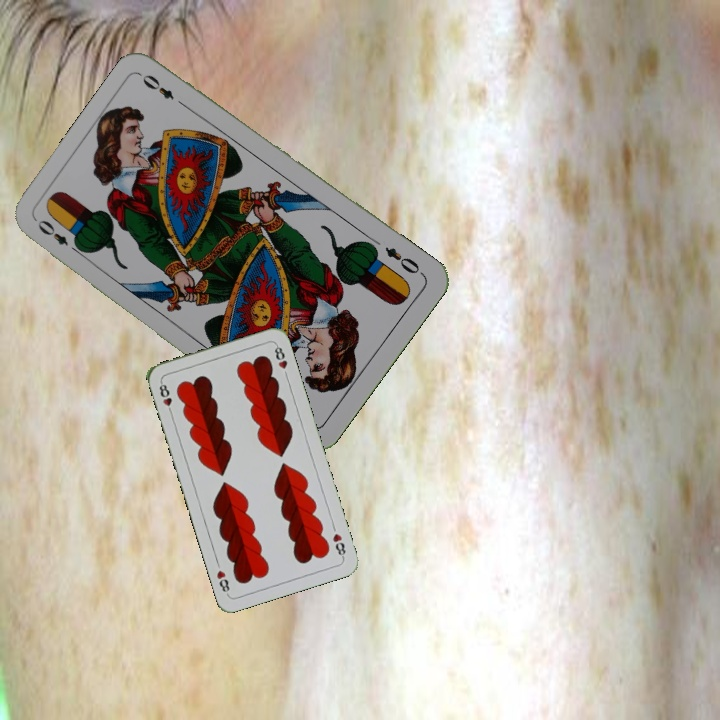EO: (33, 215, 85, 257), (380, 243, 426, 278)
H8: (155, 378, 175, 417), (329, 529, 348, 561)
